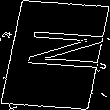N_E: (7, 32, 103, 78)
